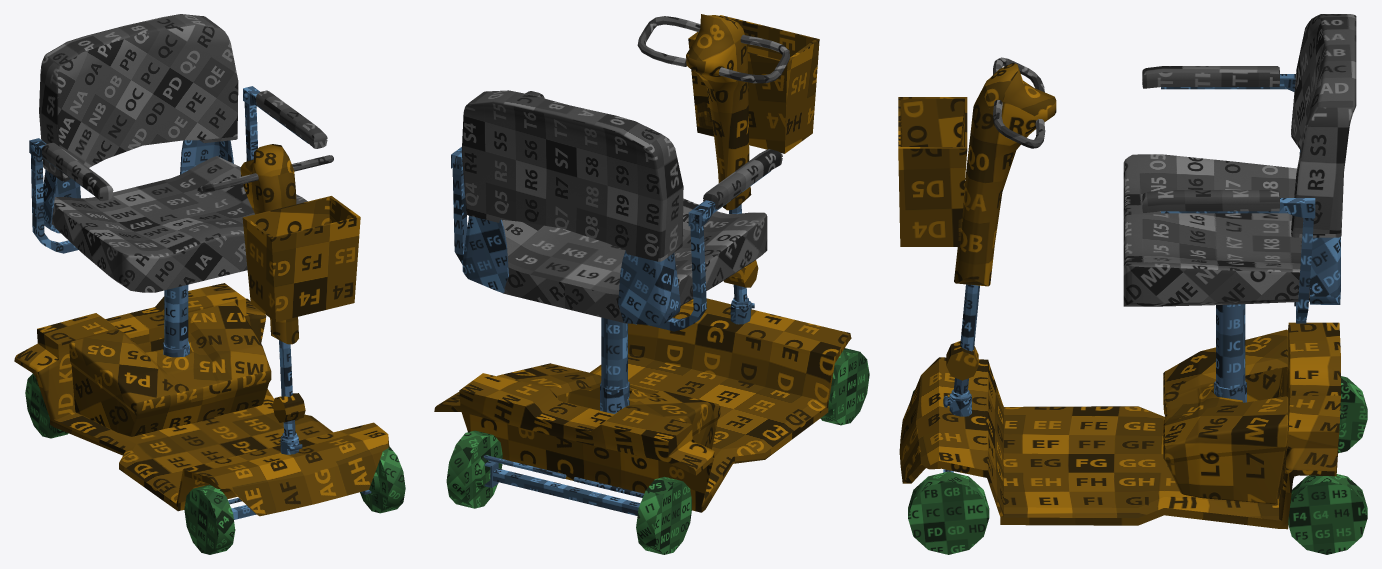
File: Scooter05.obj
The picture shows the model from 3 angles, left to right: view 1: azimuth 30°, elevation 25°; view 2: azimuth 150°, elevation 25°; view 3: azimuth 270°, elevation 25°; orthographic projection. The views are drawn at different scales.
Parts seen in each view (by area): view 1: Floor, BackRest, Motor2, Seat, Basket, FrontWheel_R, HandlePiece, ArmRestCushion_R, ArmRestPole, ChairPole2, BackJoint_L, FrontWheel_R1 (+4 smaller); view 2: Floor, BackRest, Seat, Basket, HandlePiece, FrontWheel_R1, Motor2, BackJoint_R2, ArmRestPole, BackJoint_L, FrontWheel_R, WheelConnector1_R1 (+6 smaller); view 3: Floor, Seat, Motor2, BackRest, Basket, HandlePiece, FrontWheel_R1, ArmRestCushion_R, FrontWheel_R, ChairPole2, BackJoint_L, HandleBars (+3 smaller).
Part boxes in pixels (box(x1,y1,x2,y2)): Floor: box(14, 283, 389, 516); BackRest: box(39, 14, 238, 181); Motor2: box(69, 302, 271, 436); Seat: box(51, 156, 307, 292); Basket: box(242, 196, 360, 321); FrontWheel_R: box(184, 446, 405, 554); HandlePiece: box(240, 144, 298, 344); ArmRestCushion_R: box(41, 90, 327, 201); ArmRestPole: box(31, 102, 257, 253); ChairPole2: box(164, 285, 188, 349); BackJoint_L: box(180, 140, 233, 174); FrontWheel_R1: box(25, 373, 68, 438); Floor: box(434, 298, 851, 512); BackRest: box(461, 90, 683, 261); Seat: box(501, 198, 767, 323); Basket: box(688, 15, 819, 153); HandlePiece: box(686, 14, 751, 210); FrontWheel_R1: box(446, 430, 691, 554); Motor2: box(497, 363, 720, 449); BackJoint_R2: box(618, 250, 680, 325); ArmRestPole: box(452, 160, 706, 331); BackJoint_L: box(462, 215, 508, 292); FrontWheel_R: box(820, 348, 869, 425); WheelConnector1_R1: box(484, 461, 640, 515); Floor: box(899, 322, 1340, 529); Seat: box(1123, 154, 1309, 306); Motor2: box(1163, 329, 1288, 504); BackRest: box(1291, 14, 1356, 237); Basket: box(898, 97, 967, 246); HandlePiece: box(954, 62, 1056, 286); FrontWheel_R1: box(1288, 376, 1367, 554); ArmRestCushion_R: box(1142, 66, 1279, 212); FrontWheel_R: box(908, 390, 989, 554); ChairPole2: box(1216, 304, 1245, 388); BackJoint_L: box(1310, 237, 1340, 304); HandleBars: box(993, 57, 1045, 148).
Size of the model in its own units: 4 by 6.18 by 5.81.
Materials: 4 (4 with a texture image).
